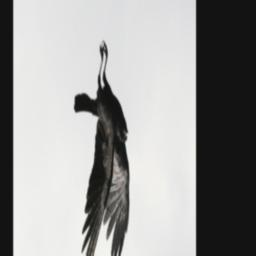Crow: (74, 35, 131, 256)
